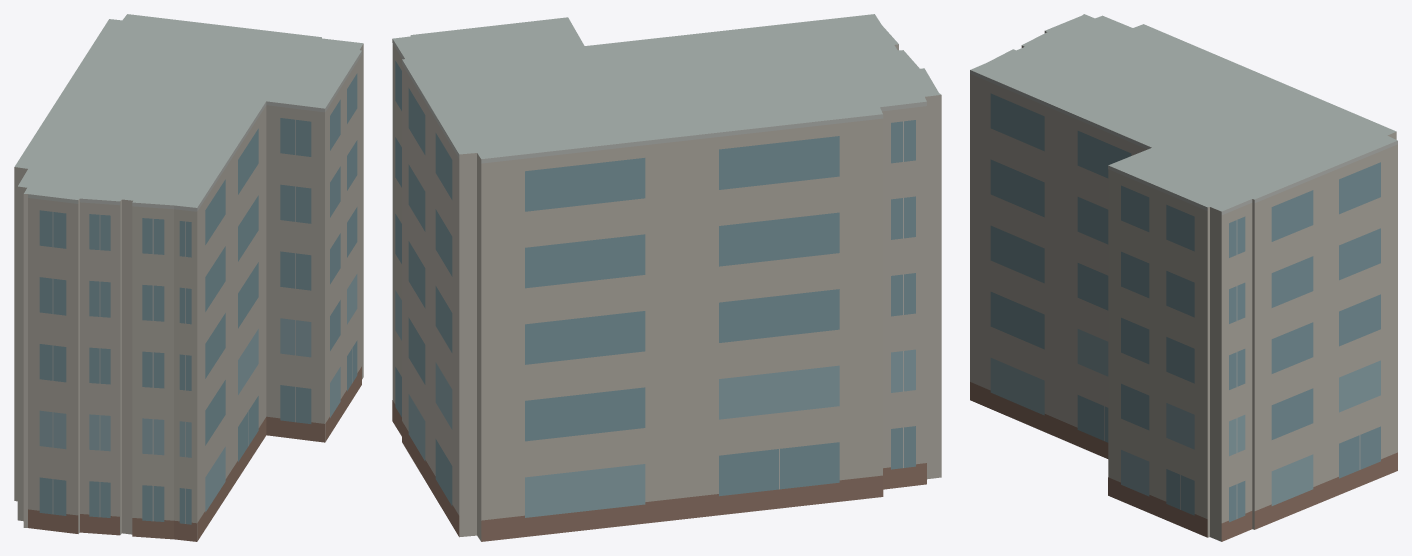
Rendered from survey-upis-32663890.glb.
3 views of the same model, side by side, from view 1: azimuth 30°, elevation 25°; view 2: azimuth 150°, elevation 25°; view 3: azimuth 270°, elevation 25° (orthographic). The views are drawn at different scales.
Parts seen in each view (by area): view 1: survey-upis-32663890.tmp; view 2: survey-upis-32663890.tmp; view 3: survey-upis-32663890.tmp.
Boxes of the visible parts, x1,y1,x2,y2 form: survey-upis-32663890.tmp: (14, 14, 363, 541); survey-upis-32663890.tmp: (392, 14, 941, 541); survey-upis-32663890.tmp: (970, 14, 1397, 541).
Bounding box in the file's own units: 27.34 × 21.3 × 25.01.
